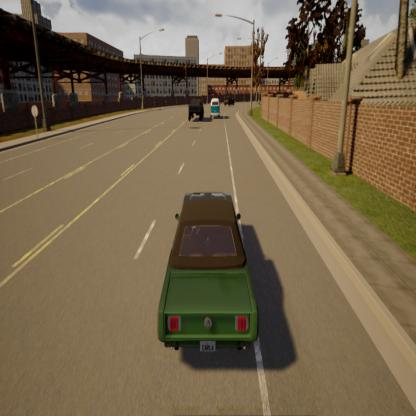Cars: (151, 184, 266, 360), (187, 97, 206, 125), (209, 96, 222, 122), (222, 91, 236, 109)
